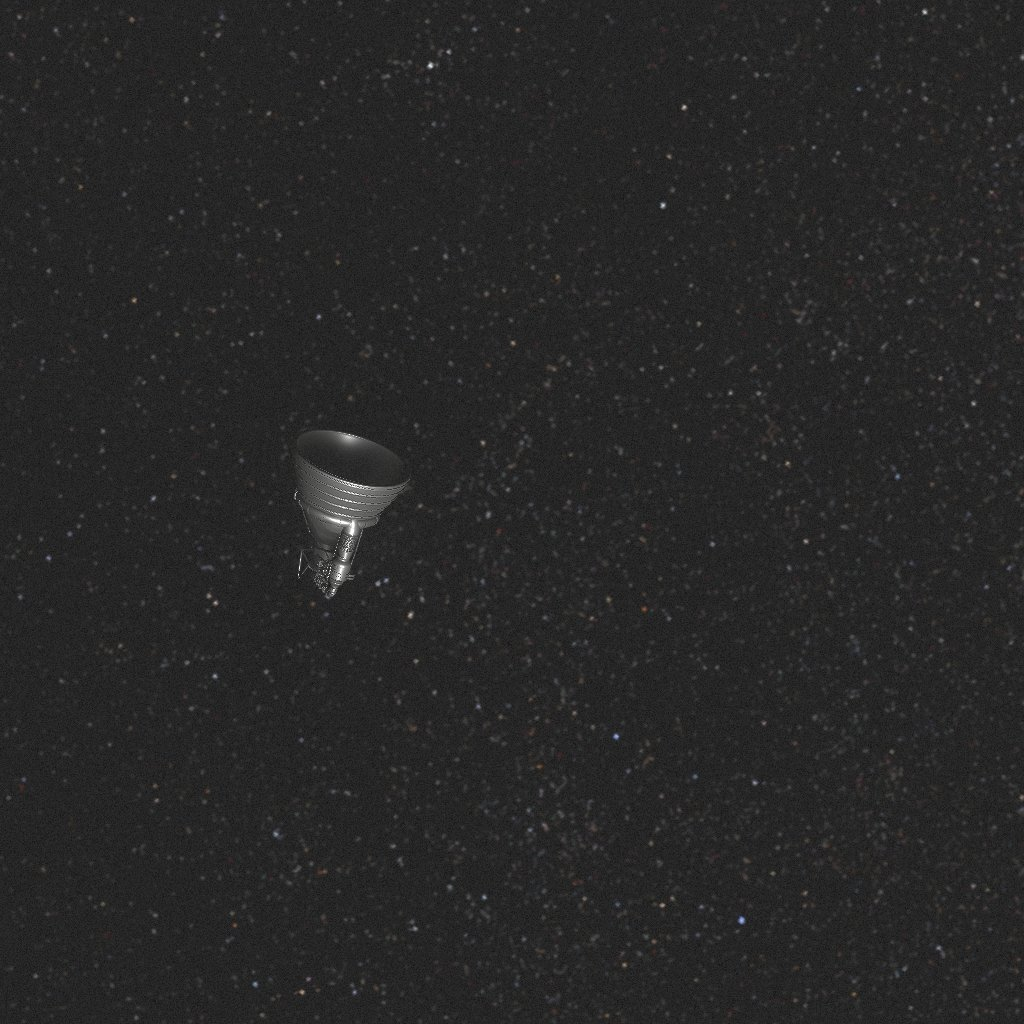debris: (291, 429, 411, 597)
